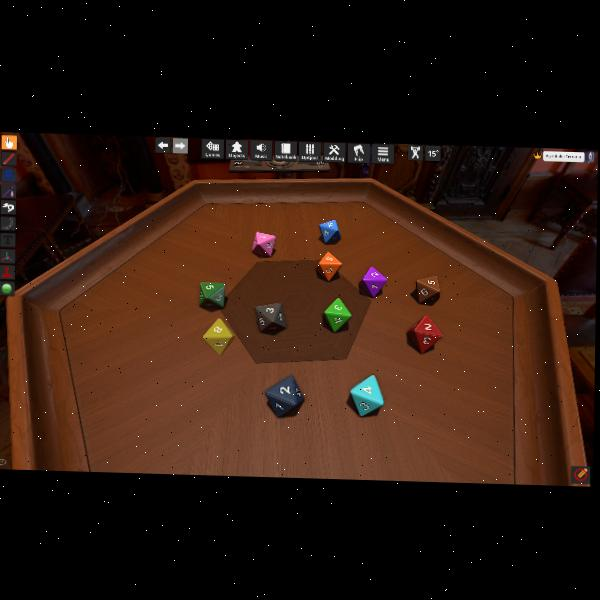d8: (264, 374, 304, 417), (349, 373, 382, 415), (407, 315, 442, 354), (203, 318, 233, 356), (323, 298, 352, 333), (255, 302, 286, 333), (360, 265, 386, 296), (316, 250, 342, 280), (199, 282, 225, 309), (416, 274, 440, 303), (252, 230, 275, 256), (319, 218, 341, 244)
